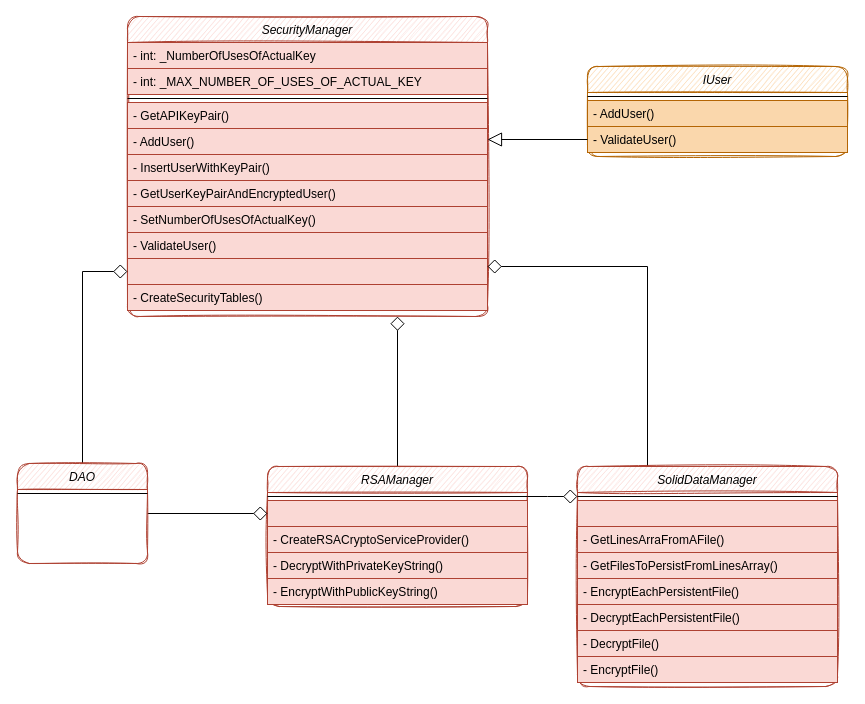
This 865x704 diagram has some shape labels left out. The shapes that lost their labels are listed below. From the top down, each one's centre as x and y in pixels, then its label:
At point (307, 271): "- ChangeDBEncryptation()".
At point (397, 513): "- CreateKeyPair()".
At point (707, 513): "- GetFilePath()".
